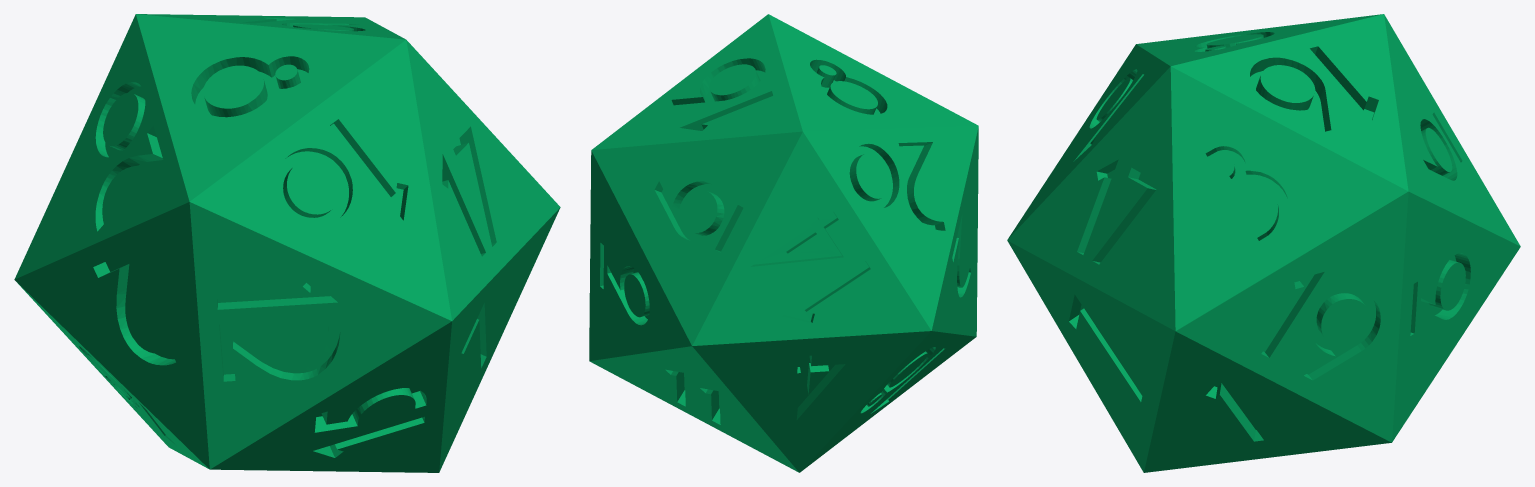
3 views of the same model, side by side, from view 1: azimuth 30°, elevation 25°; view 2: azimuth 150°, elevation 25°; view 3: azimuth 270°, elevation 25° (orthographic). The views are drawn at different scales.
Bounding box in the file's own units: 25.85 × 24.48 × 27.34.
